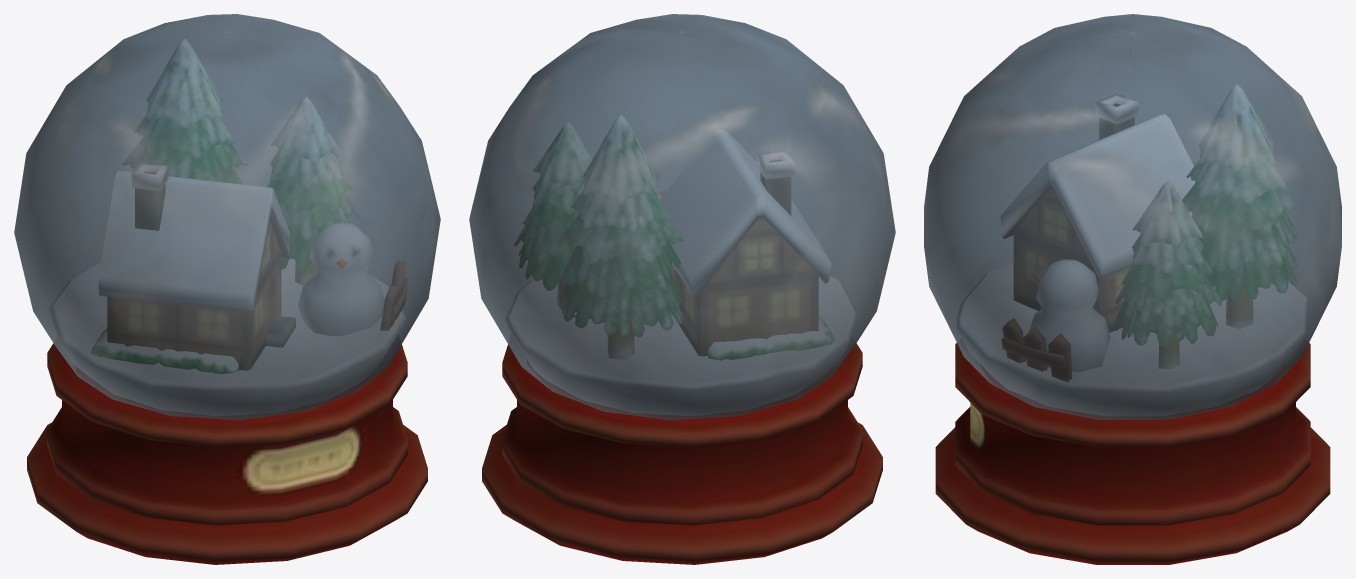
3 renders of one model, left to right at view 1: azimuth 30°, elevation 25°; view 2: azimuth 150°, elevation 25°; view 3: azimuth 270°, elevation 25°, orthographic.
Bounding box in the file's own units: 5.78 × 6.78 × 5.64.
4 materials, 3 textured.
